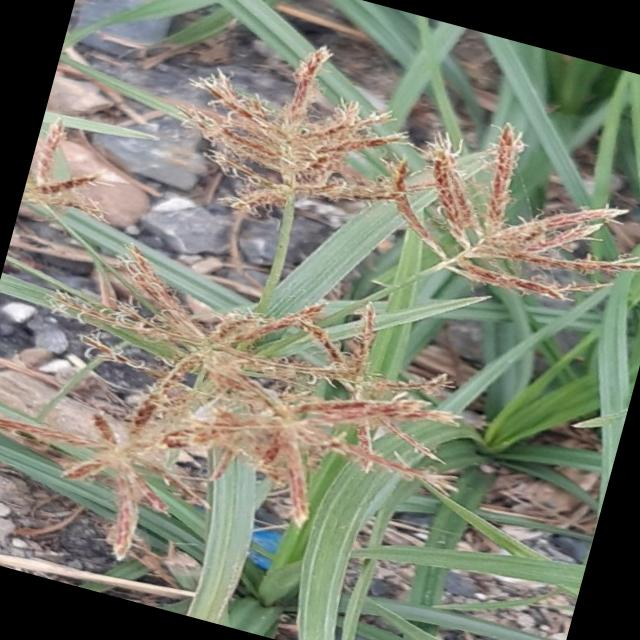cyperus: (6, 222, 511, 618), (164, 29, 640, 343)
